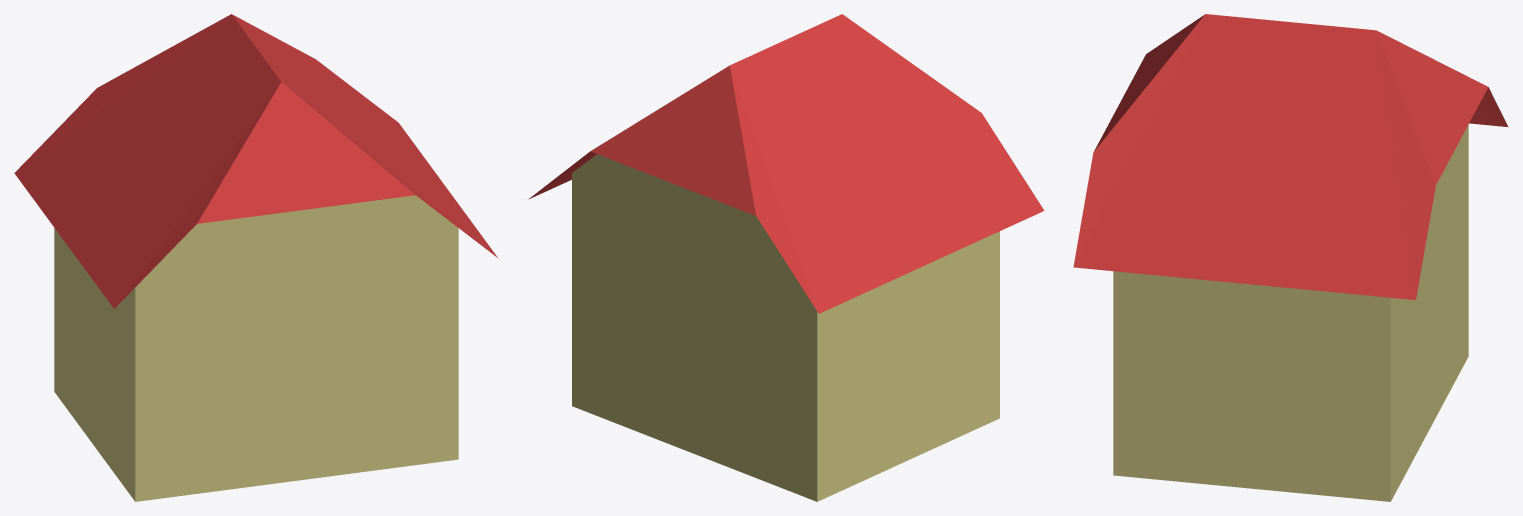
3 views of the same model, side by side, from view 1: azimuth 30°, elevation 25°; view 2: azimuth 150°, elevation 25°; view 3: azimuth 270°, elevation 25° (orthographic). The views are drawn at different scales.
Visible parts, largest first — view 1: group_5, group_3, group_4; view 2: group_5, group_3, group_4; view 3: group_3, group_5, group_4.
Part boxes in pixels (x1=…): group_5: x1=54, y1=94, x2=458, y2=501; group_3: x1=14, y1=14, x2=498, y2=308; group_4: x1=15, y1=60, x2=414, y2=194; group_5: x1=572, y1=154, x2=999, y2=501; group_3: x1=590, y1=14, x2=1044, y2=313; group_4: x1=528, y1=122, x2=818, y2=313; group_3: x1=1073, y1=14, x2=1508, y2=299; group_5: x1=1113, y1=125, x2=1468, y2=501; group_4: x1=1075, y1=65, x2=1507, y2=299.
Size of the model in its own units: 14.59 by 13.04 by 13.02.
